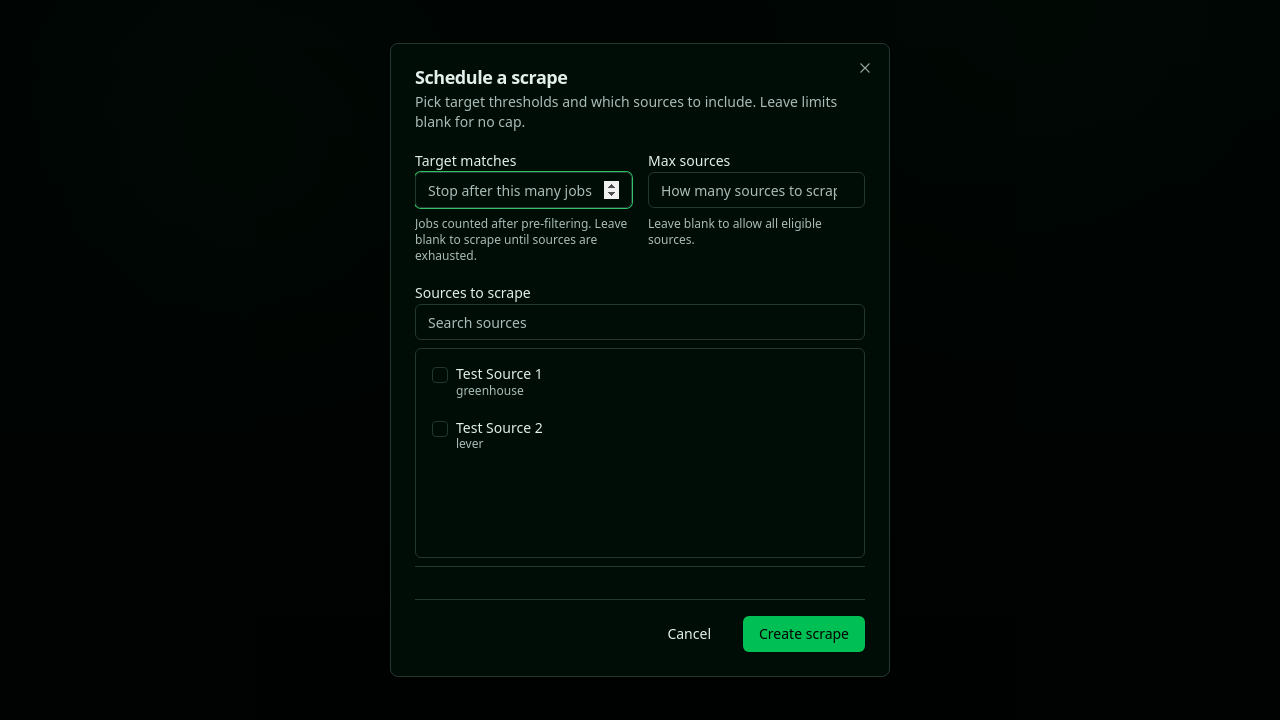
Test: ScrapeJobDialog › displays error message when submission fails
Click the button "Create scrape" at (804, 634), box [743,616,865,652]
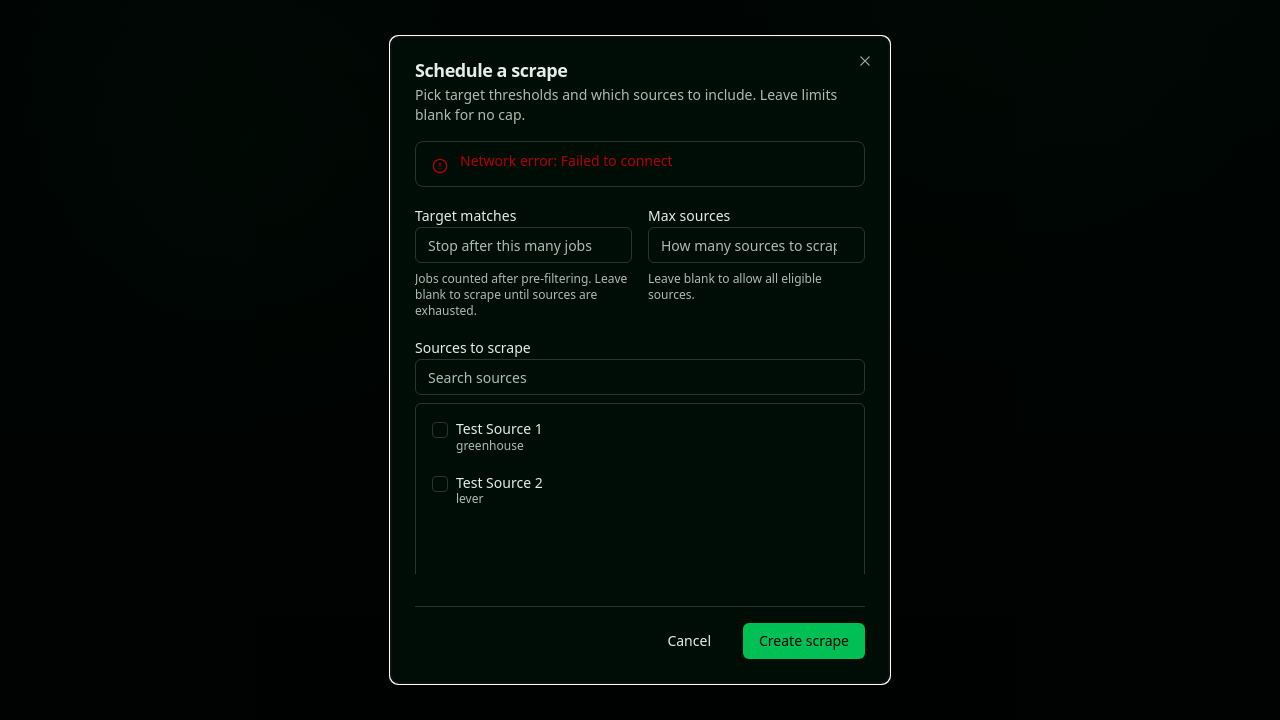
Expected: the text "Network error: Failed to connect" is shown, [460,151,673,170]
